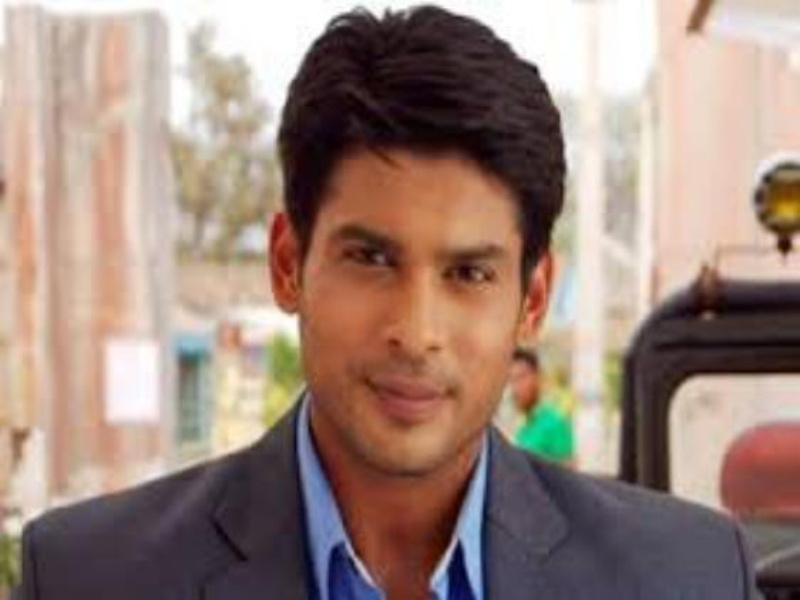TsisyArotava: (246, 19, 580, 510)
